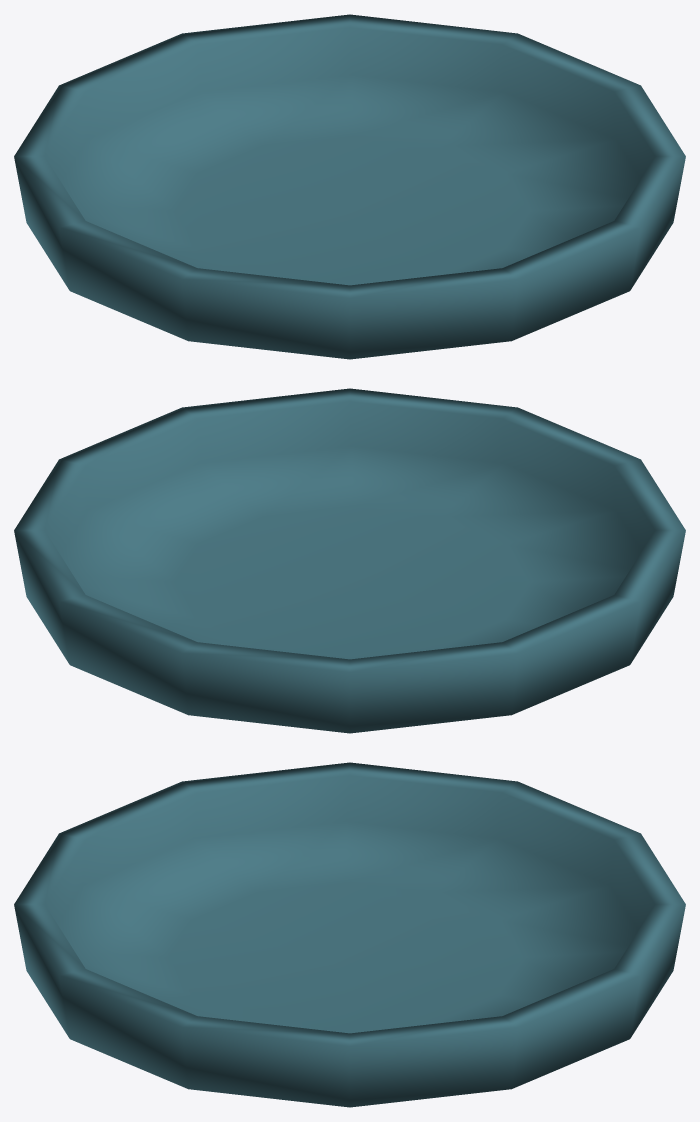
Rendered from cap.glb.
The picture shows the model from 3 angles, top to bottom: view 1: azimuth 30°, elevation 25°; view 2: azimuth 150°, elevation 25°; view 3: azimuth 270°, elevation 25°; orthographic projection.
Visible parts, largest first — view 1: Cap; view 2: Cap; view 3: Cap.
Boxes of the visible parts, x1,y1,x2,y2 form: Cap: (14, 14, 685, 359); Cap: (14, 388, 685, 733); Cap: (14, 762, 685, 1107).
Size of the model in its own units: 0.9911 by 0.1333 by 0.9911.
1 material, 1 textured.
